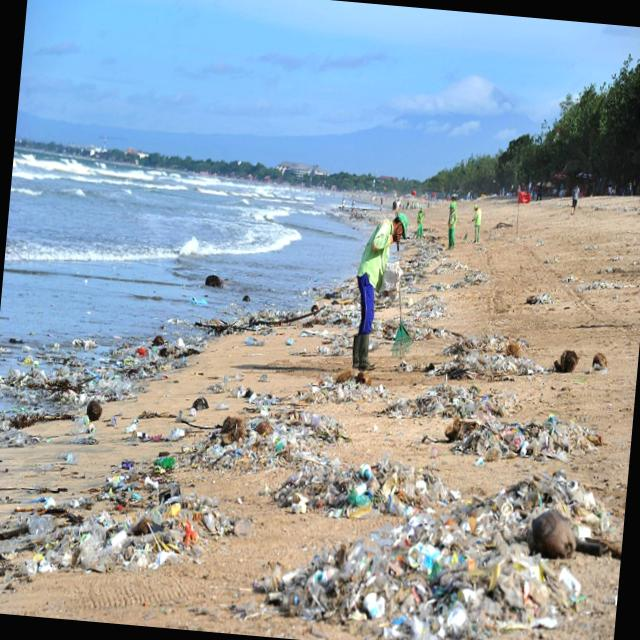garbage: (269, 430, 581, 640), (17, 464, 245, 616), (0, 322, 168, 448), (434, 394, 600, 498), (182, 380, 338, 485), (420, 318, 560, 398), (287, 358, 385, 410), (516, 285, 552, 310)
